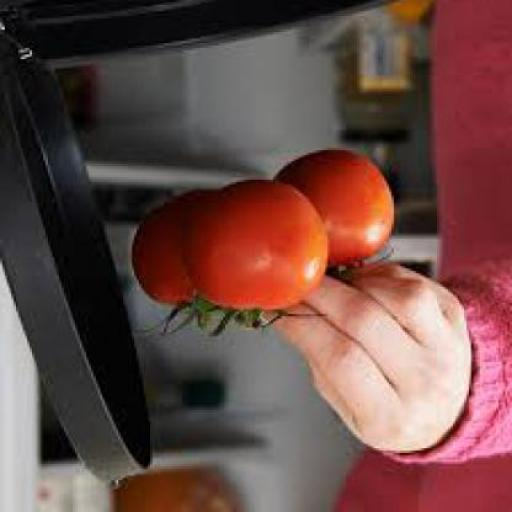biodegradable: (180, 178, 323, 341), (280, 150, 393, 273), (127, 194, 211, 336)
